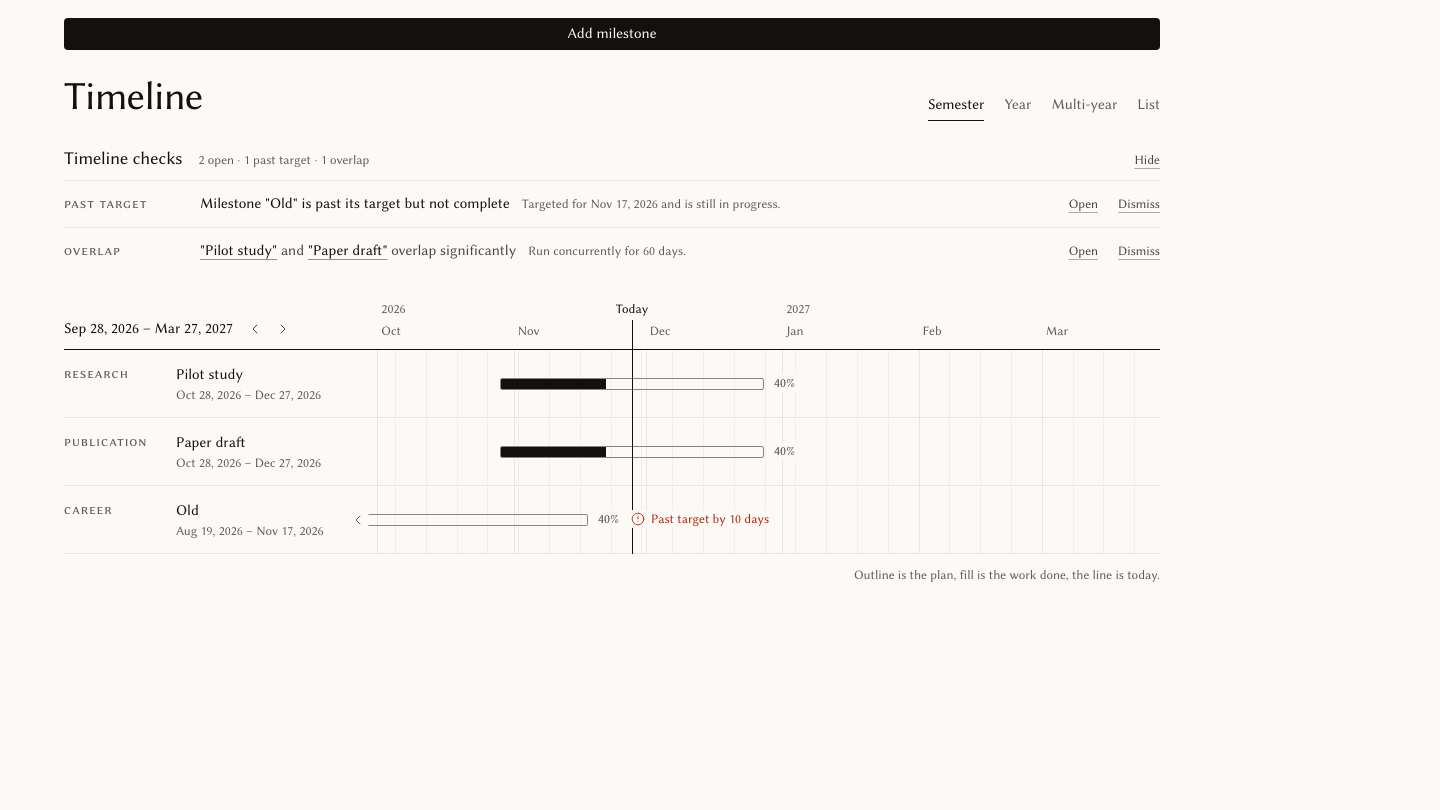
Test case: TimelinePage › prints check dates in the user format and lets each milestone in a pair open itself
Expected: the text "Milestone \"Old\" is past its target but not complete" is shown, x1=200 y1=195 x2=510 y2=212
Click the button "\"Paper draft\"". click: (348, 251)
box: x1=308 y1=235 x2=387 y2=267
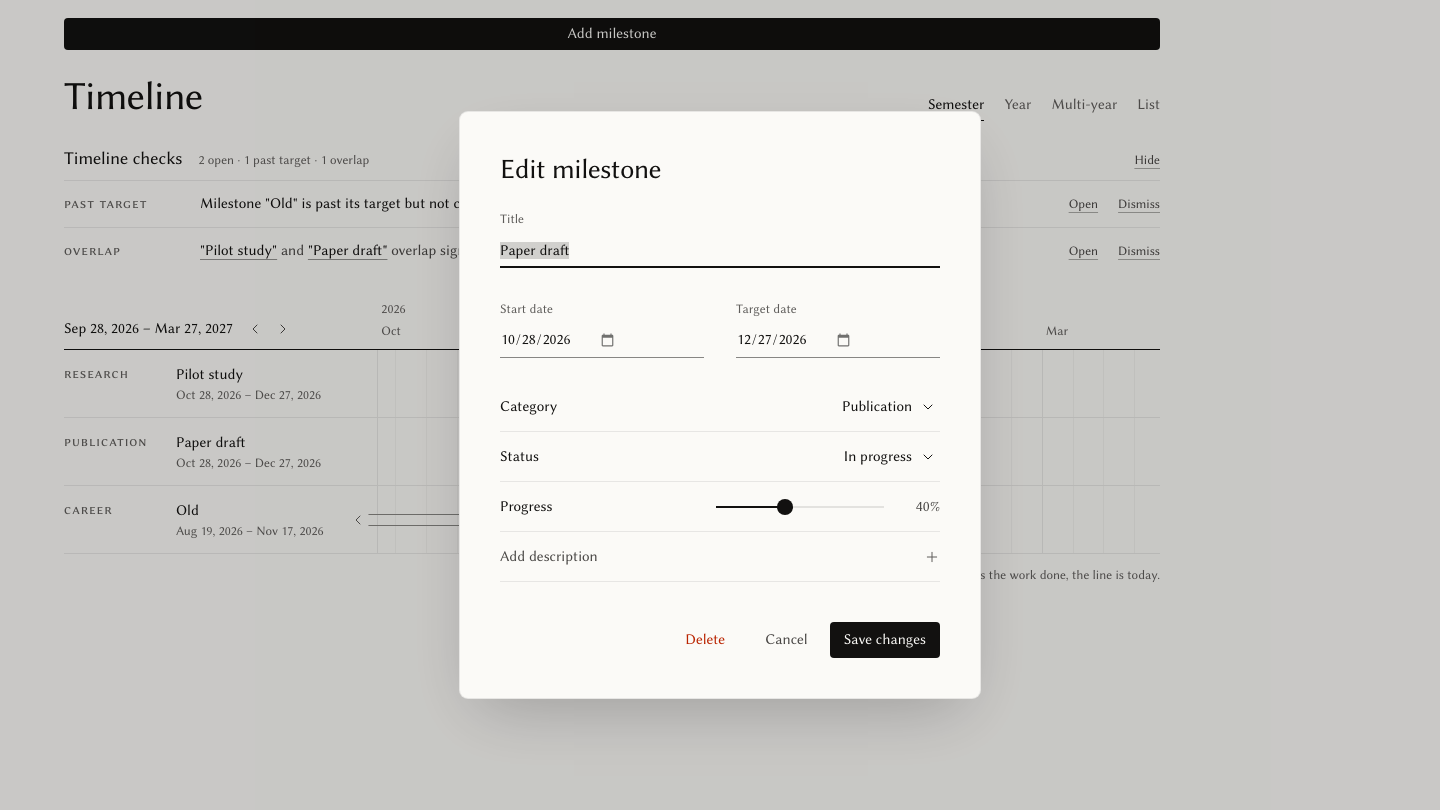
Expected: the field labelled "Title" holds "Paper draft", x1=500 y1=232 x2=940 y2=268
